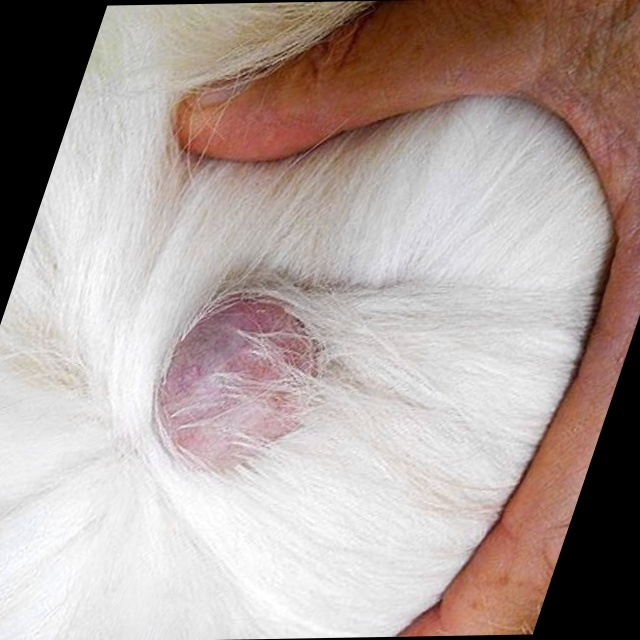lump_and_bump: (132, 282, 340, 481)
